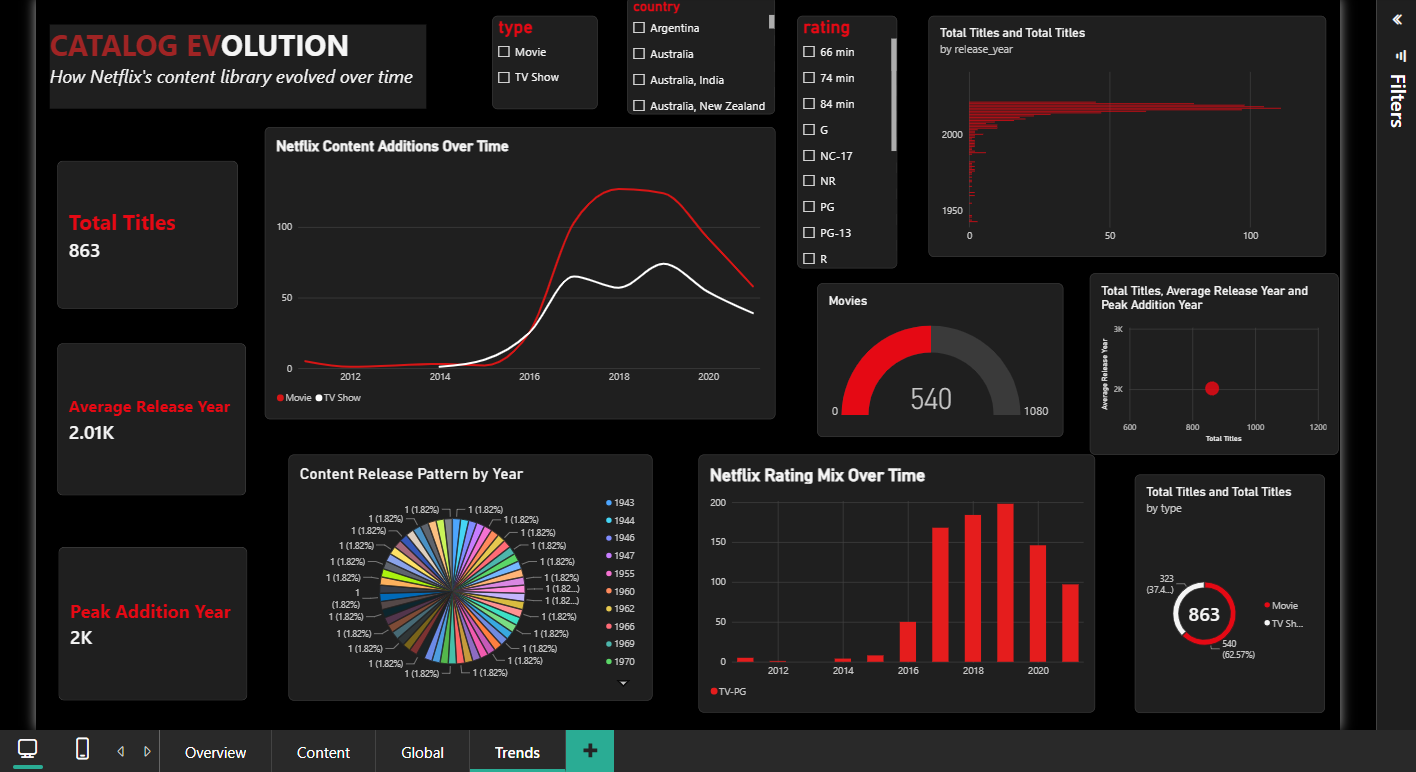

Layout of this report page (visuals, bound fields, positions):
{"tool":"powerbi","page":{"name":"Trends","canvas":[1920,1080],"ordinal":3},"visuals":[{"type":"textbox","box":[20,40,554,124],"z":0},{"type":"cardVisual","fields":{"Data":["public netflix_countries.Total Titles"]},"box":[32,242,266,218],"z":1000},{"type":"cardVisual","fields":{"Data":["public netflix_countries.Average Release Year"]},"box":[32,510,278,224],"z":2000},{"type":"cardVisual","fields":{"Data":["public netflix_countries.Peak Addition Year"]},"box":[34,810,278,226],"z":3000},{"type":"lineChart","title":"Netflix Content Additions Over Time","fields":{"Category":["public netflix_titles.year_added"],"Series":["public netflix_titles.type"],"Y":["public netflix_countries.Total Titles"]},"box":[336,192,752,430],"z":4000},{"type":"pieChart","title":"Content Release Pattern by Year","fields":{"Category":["public netflix_titles.release_year"],"Y":["public netflix_countries.Total Ratings"]},"box":[372,674,536,362],"z":5000},{"type":"lineStackedColumnComboChart","title":"Netflix Rating Mix Over Time","fields":{"Category":["public netflix_titles.year_added"],"Series":["public netflix_titles.rating"],"Y":["public netflix_countries.Total Titles"]},"box":[976,674,584,380],"z":6000},{"type":"barChart","fields":{"Category":["public netflix_titles.release_year"],"Y":["public netflix_countries.Total Titles"]},"box":[1314.1,27.6,585.3,355.2],"z":7000},{"type":"slicer","title":"Content Type","fields":{"Values":["public netflix_titles.type"]},"box":[672.5,27.5,155,137.5],"z":8000},{"type":"slicer","fields":{"Values":["public netflix_titles.country"]},"box":[870,0,217.5,172.5],"z":9000},{"type":"slicer","fields":{"Values":["public netflix_titles.rating"]},"box":[1120.9,27.6,147.2,371.8],"z":10000},{"type":"donutChart","fields":{"Category":["public netflix_titles.type"],"Y":["public netflix_countries.Total Titles"]},"box":[1617.8,703.1,279.8,351.5],"z":11000},{"type":"gauge","fields":{"Y":["public netflix_countries.Movies"]},"box":[1150.3,421.5,362.6,226.4],"z":12000},{"type":"scatterChart","fields":{"Size":["public netflix_countries.Peak Addition Year"],"X":["public netflix_countries.Total Titles"],"Y":["public netflix_countries.Average Release Year"]},"box":[1551.5,406.8,366.3,266.9],"z":13000}]}

Visuals, with their boxes on the page's 1920x1080 design canvas (x1, y1, x2, y2). These are canvas units, not pixel positions in the 1416x772 screenshot, which may show the page scaled, cropped or inside an application window:
textbox: bbox=[20, 40, 574, 164]
cardVisual - public netflix_countries.Total Titles: bbox=[32, 242, 298, 460]
cardVisual - public netflix_countries.Average Release Year: bbox=[32, 510, 310, 734]
cardVisual - public netflix_countries.Peak Addition Year: bbox=[34, 810, 312, 1036]
"Netflix Content Additions Over Time" lineChart: bbox=[336, 192, 1088, 622]
"Content Release Pattern by Year" pieChart: bbox=[372, 674, 908, 1036]
"Netflix Rating Mix Over Time" lineStackedColumnComboChart: bbox=[976, 674, 1560, 1054]
barChart - public netflix_titles.release_year x public netflix_countries.Total Titles: bbox=[1314, 28, 1899, 383]
"Content Type" slicer: bbox=[672, 28, 828, 165]
slicer - public netflix_titles.country: bbox=[870, 0, 1088, 172]
slicer - public netflix_titles.rating: bbox=[1121, 28, 1268, 399]
donutChart - public netflix_titles.type x public netflix_countries.Total Titles: bbox=[1618, 703, 1898, 1055]
gauge - public netflix_countries.Movies: bbox=[1150, 422, 1513, 648]
scatterChart - public netflix_countries.Peak Addition Year x public netflix_countries.Total Titles: bbox=[1552, 407, 1918, 674]
